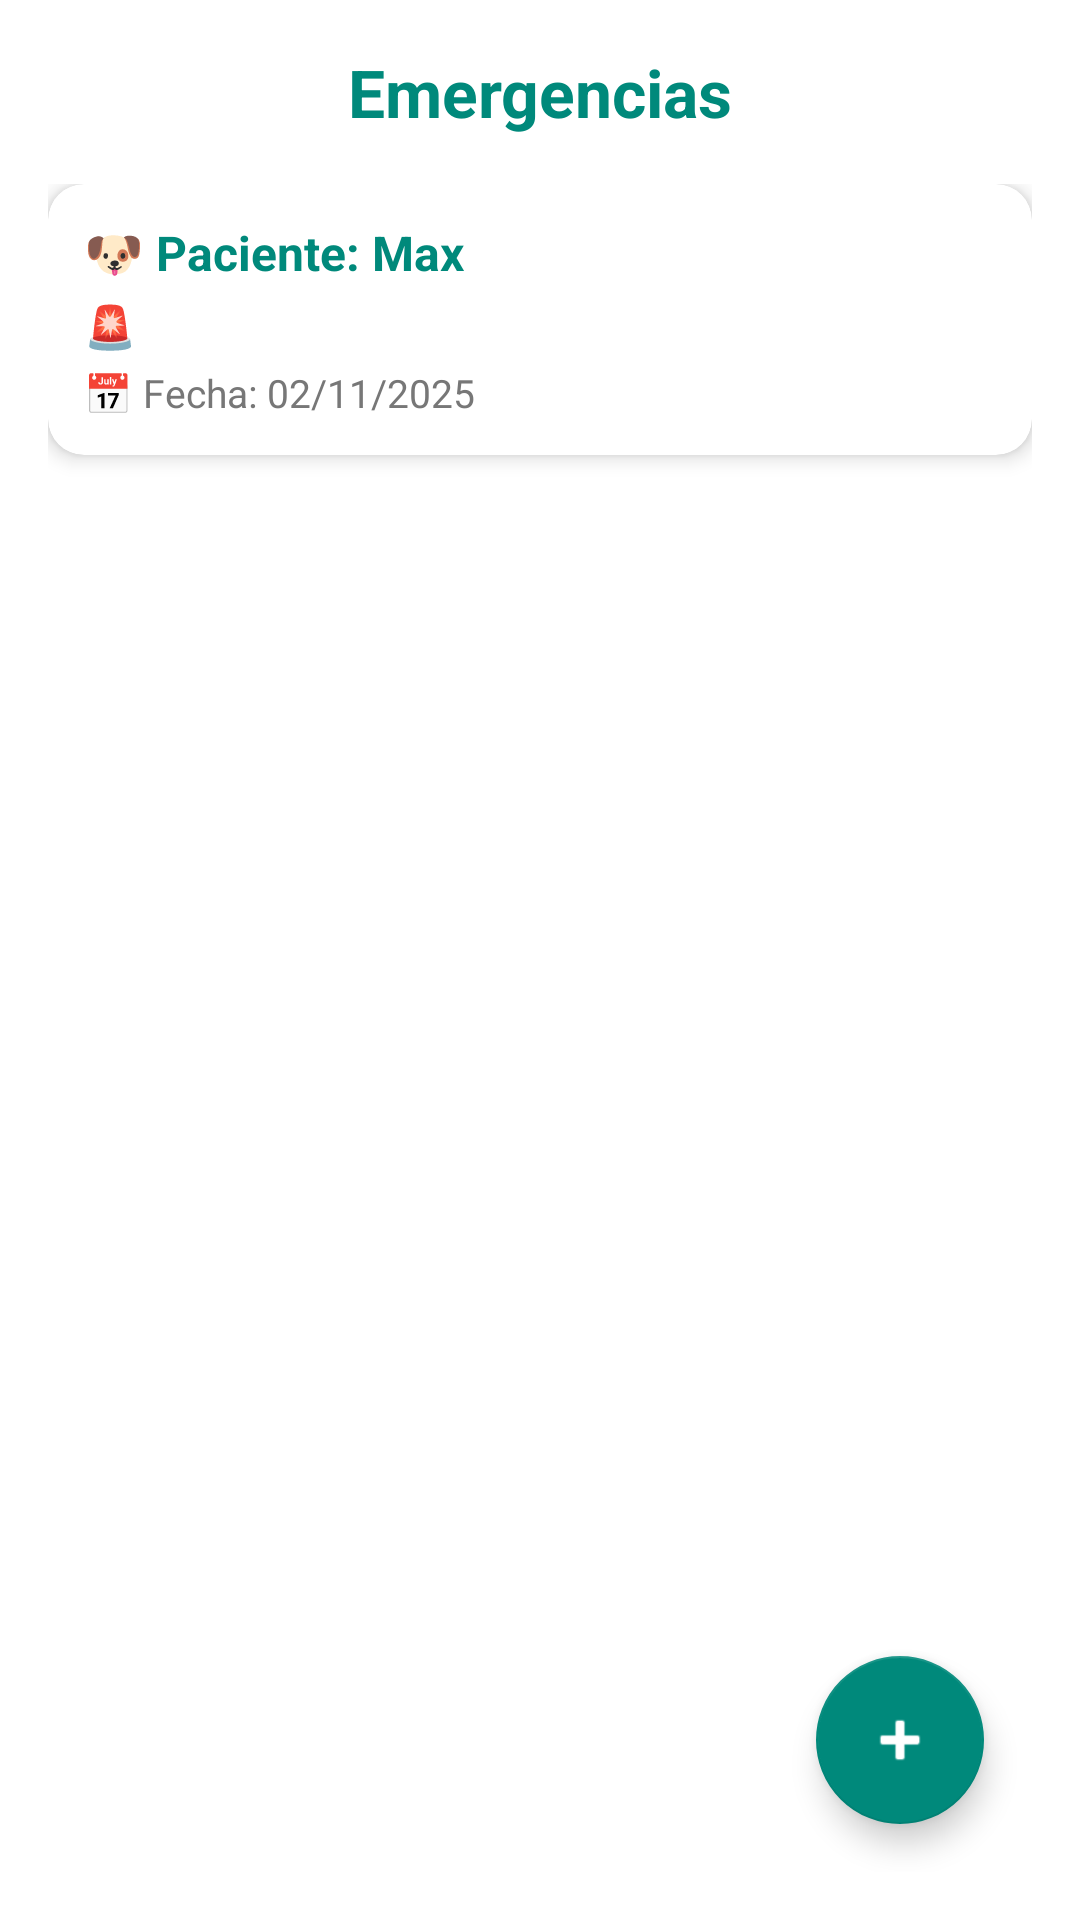

Screen size 1080px x 1920px. Icon name, then its center in pixels as (x=x, y=y):
Registrar nueva emergencia: (x=900, y=1740)
